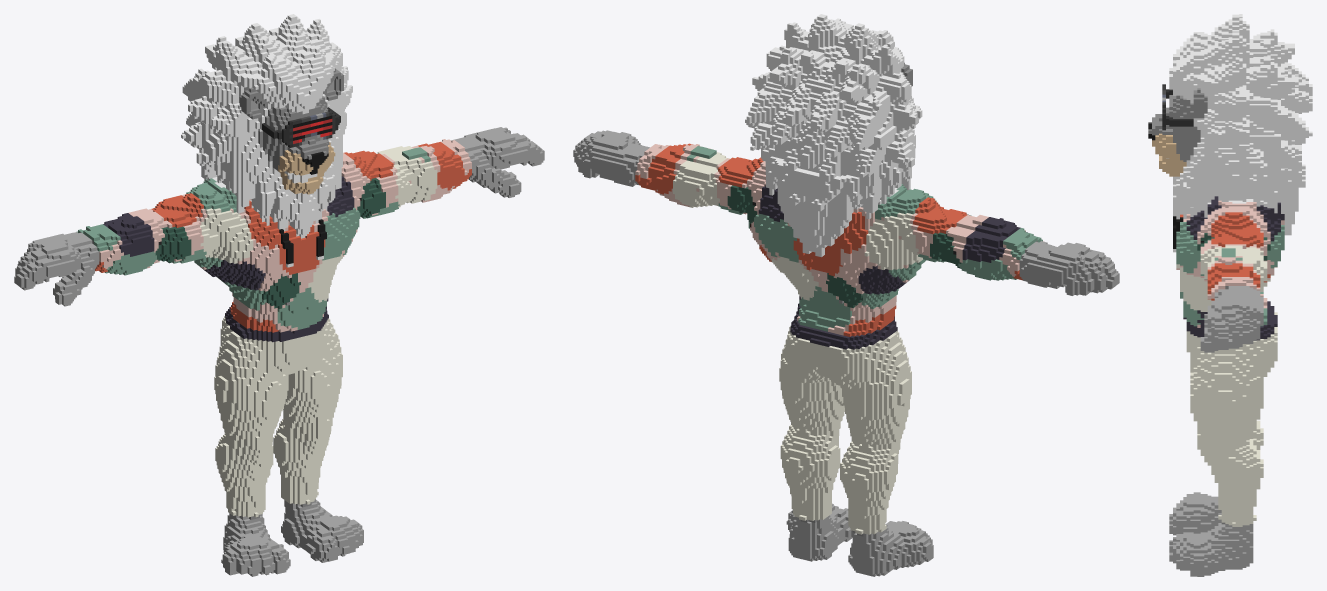
The picture shows the model from 3 angles, left to right: view 1: azimuth 30°, elevation 25°; view 2: azimuth 150°, elevation 25°; view 3: azimuth 270°, elevation 25°; orthographic projection. The views are drawn at different scales.
Visible parts, largest first — view 1: grin; view 2: grin; view 3: grin.
Boxes of the visible parts, x1,y1,x2,y2 form: grin: (14,14,544,576); grin: (573,14,1119,576); grin: (1148,14,1312,576).
Size of the model in its own units: 17.2 by 16.5 by 4.7.
5 materials, 5 textured.
